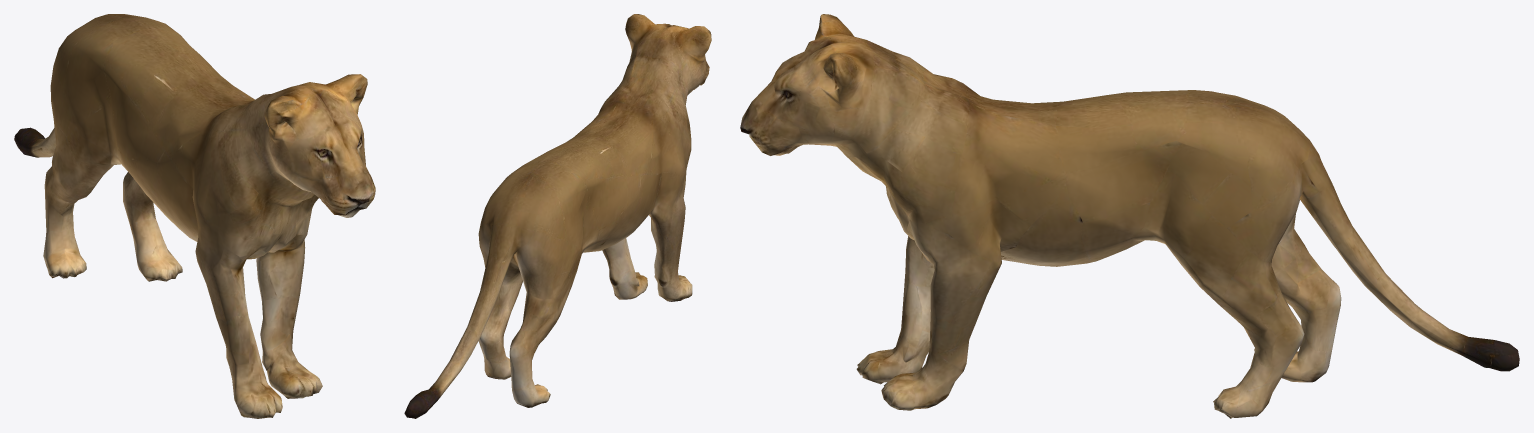
Rendered from loewin.glb.
The picture shows the model from 3 angles, left to right: view 1: azimuth 30°, elevation 25°; view 2: azimuth 150°, elevation 25°; view 3: azimuth 270°, elevation 25°; orthographic projection. The views are drawn at different scales.
Size of the model in its own units: 0.3657 by 0.9685 by 1.89.
1 material, 1 textured.
